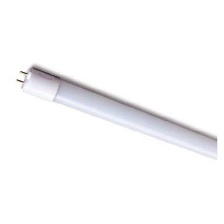light_bulb: (14, 60, 216, 169)
